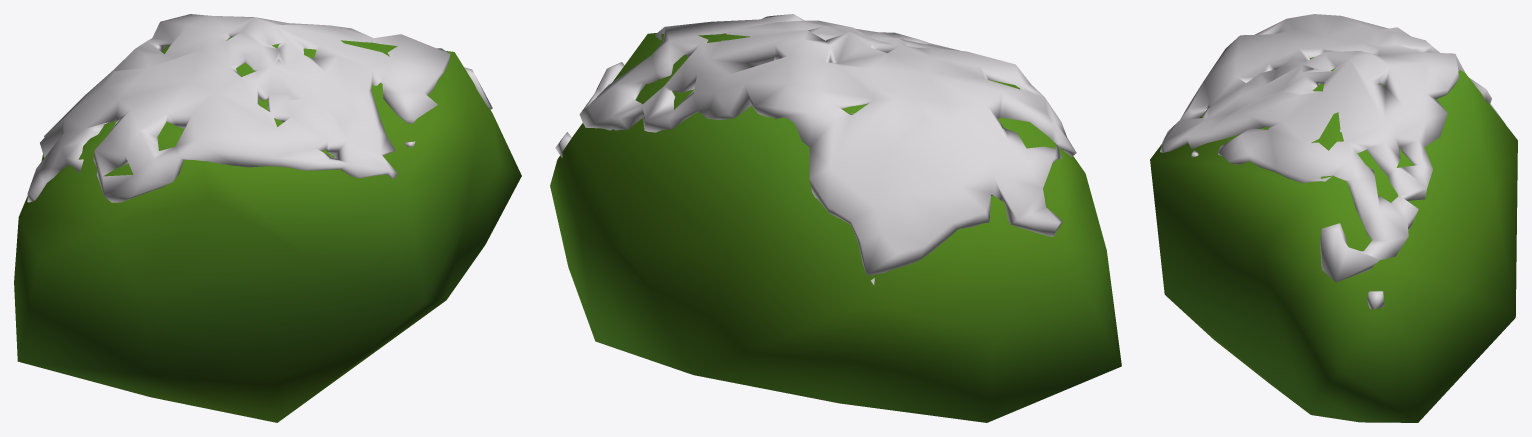
Rendered from BushSnowy_1.fbx.
The picture shows the model from 3 angles, left to right: view 1: azimuth 30°, elevation 25°; view 2: azimuth 150°, elevation 25°; view 3: azimuth 270°, elevation 25°; orthographic projection. The views are drawn at different scales.
Visible parts, largest first — view 1: BushSnowy_1; view 2: BushSnowy_1; view 3: BushSnowy_1.
Part boxes in pixels (left/top/right/bottom): BushSnowy_1: left=14, top=14, right=521, bottom=422; BushSnowy_1: left=550, top=14, right=1121, bottom=422; BushSnowy_1: left=1150, top=14, right=1517, bottom=422.
Bounding box in the file's own units: 239 × 158 × 154.
